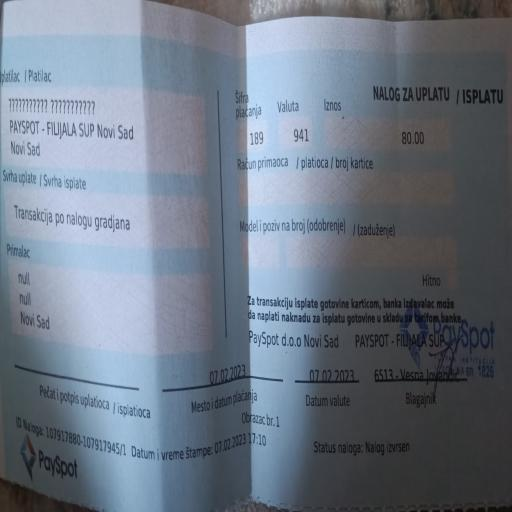svrha_uplate: (3, 169, 201, 251)
uplatnica: (230, 64, 506, 278)
